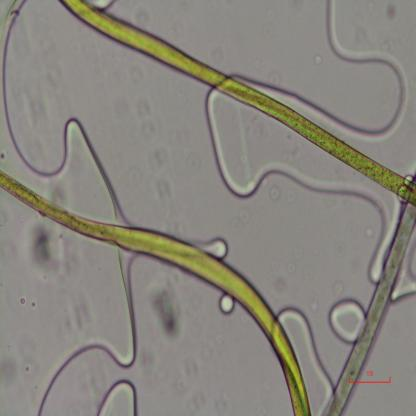Air bubble: (201, 93, 376, 244), (0, 0, 123, 206), (32, 248, 144, 416), (302, 2, 412, 144), (282, 311, 334, 400), (326, 298, 366, 343), (96, 377, 140, 416), (392, 244, 416, 304), (205, 236, 227, 260), (218, 292, 235, 314)
Background material: (25, 223, 68, 276), (154, 283, 182, 339), (64, 290, 94, 338), (0, 353, 22, 384), (132, 93, 152, 119), (268, 184, 283, 202), (386, 0, 399, 19), (311, 52, 325, 66), (20, 294, 28, 306), (0, 151, 9, 159)
Microfibre: (0, 169, 310, 414), (62, 1, 416, 207), (325, 201, 416, 414)
